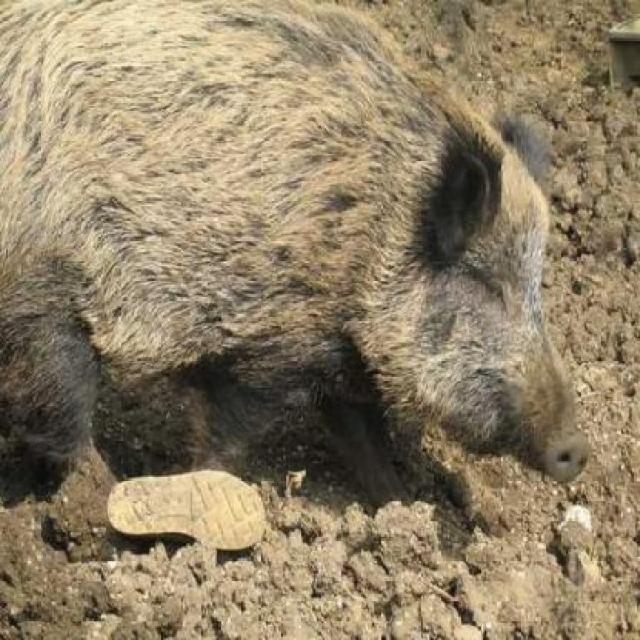pig: (0, 0, 600, 523)
